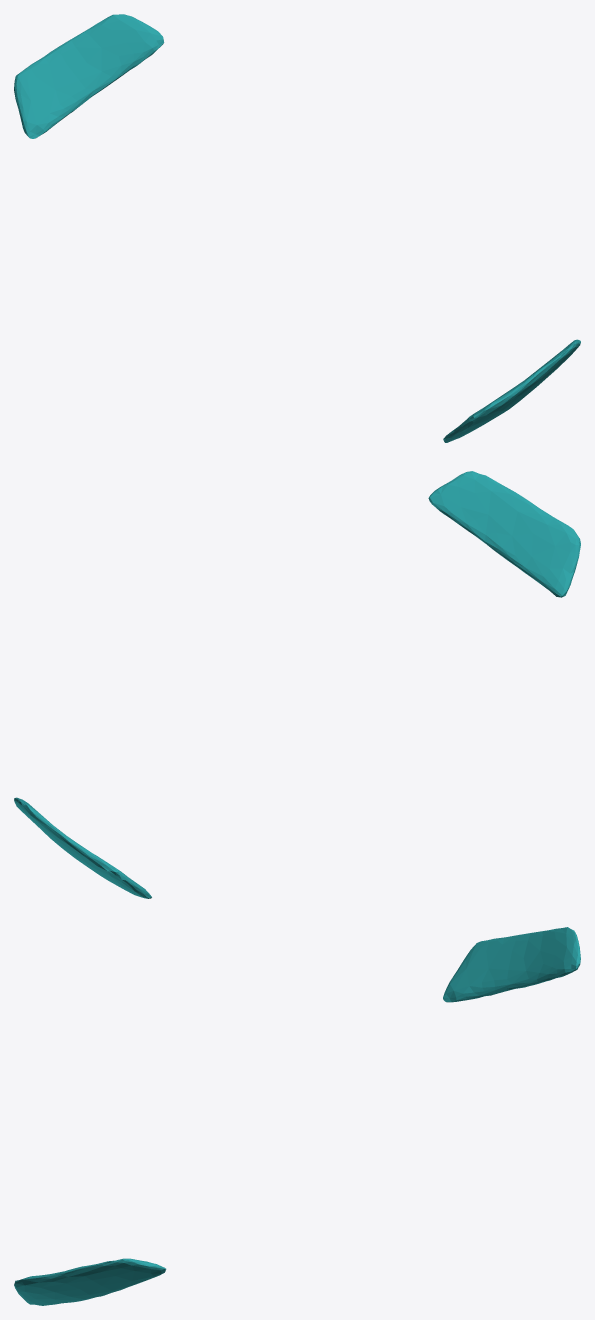
The picture shows the model from 3 angles, top to bottom: view 1: azimuth 30°, elevation 25°; view 2: azimuth 150°, elevation 25°; view 3: azimuth 330°, elevation 25°; orthographic projection.
Parts seen in each view (by area): view 1: 421.obj; view 2: 421.obj; view 3: 421.obj.
Boxes of the visible parts, left/top/right/bottom form: 421.obj: left=14, top=14, right=580, bottom=442; 421.obj: left=14, top=471, right=580, bottom=898; 421.obj: left=14, top=927, right=580, bottom=1305.
Size of the model in its own units: 1380 by 825 by 8093.
